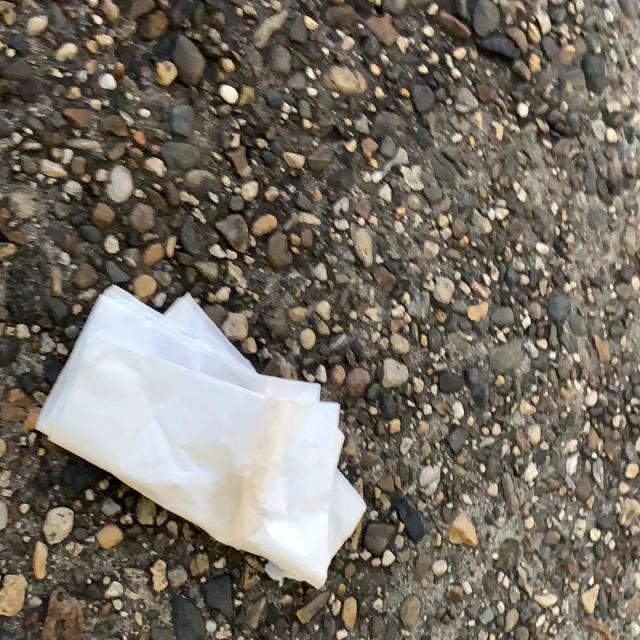Paper: (32, 280, 370, 591)
